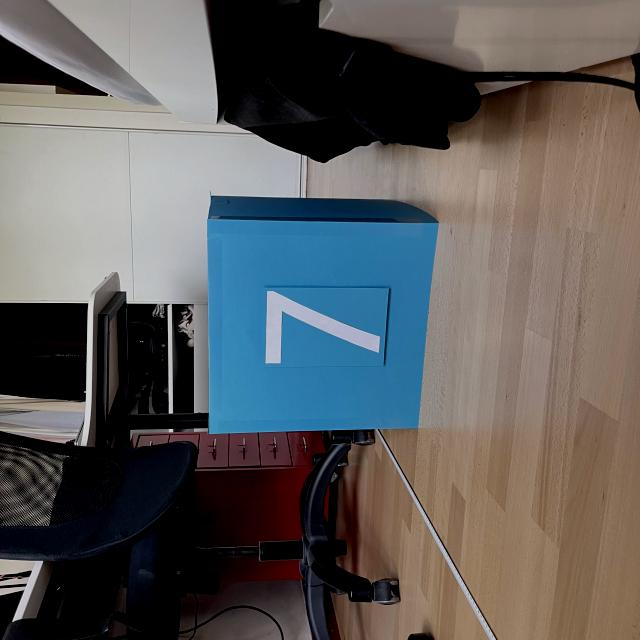box: (202, 190, 442, 435)
